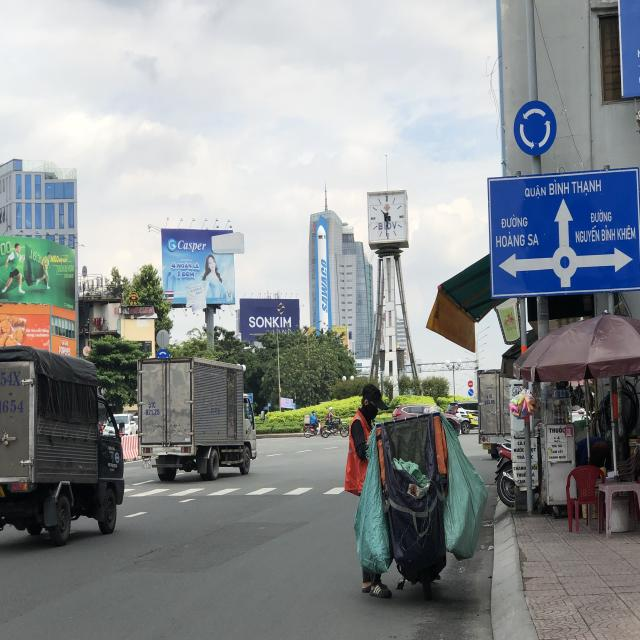Bien bao noi giao nhau chay theo vong xuyen: (511, 96, 560, 156)
